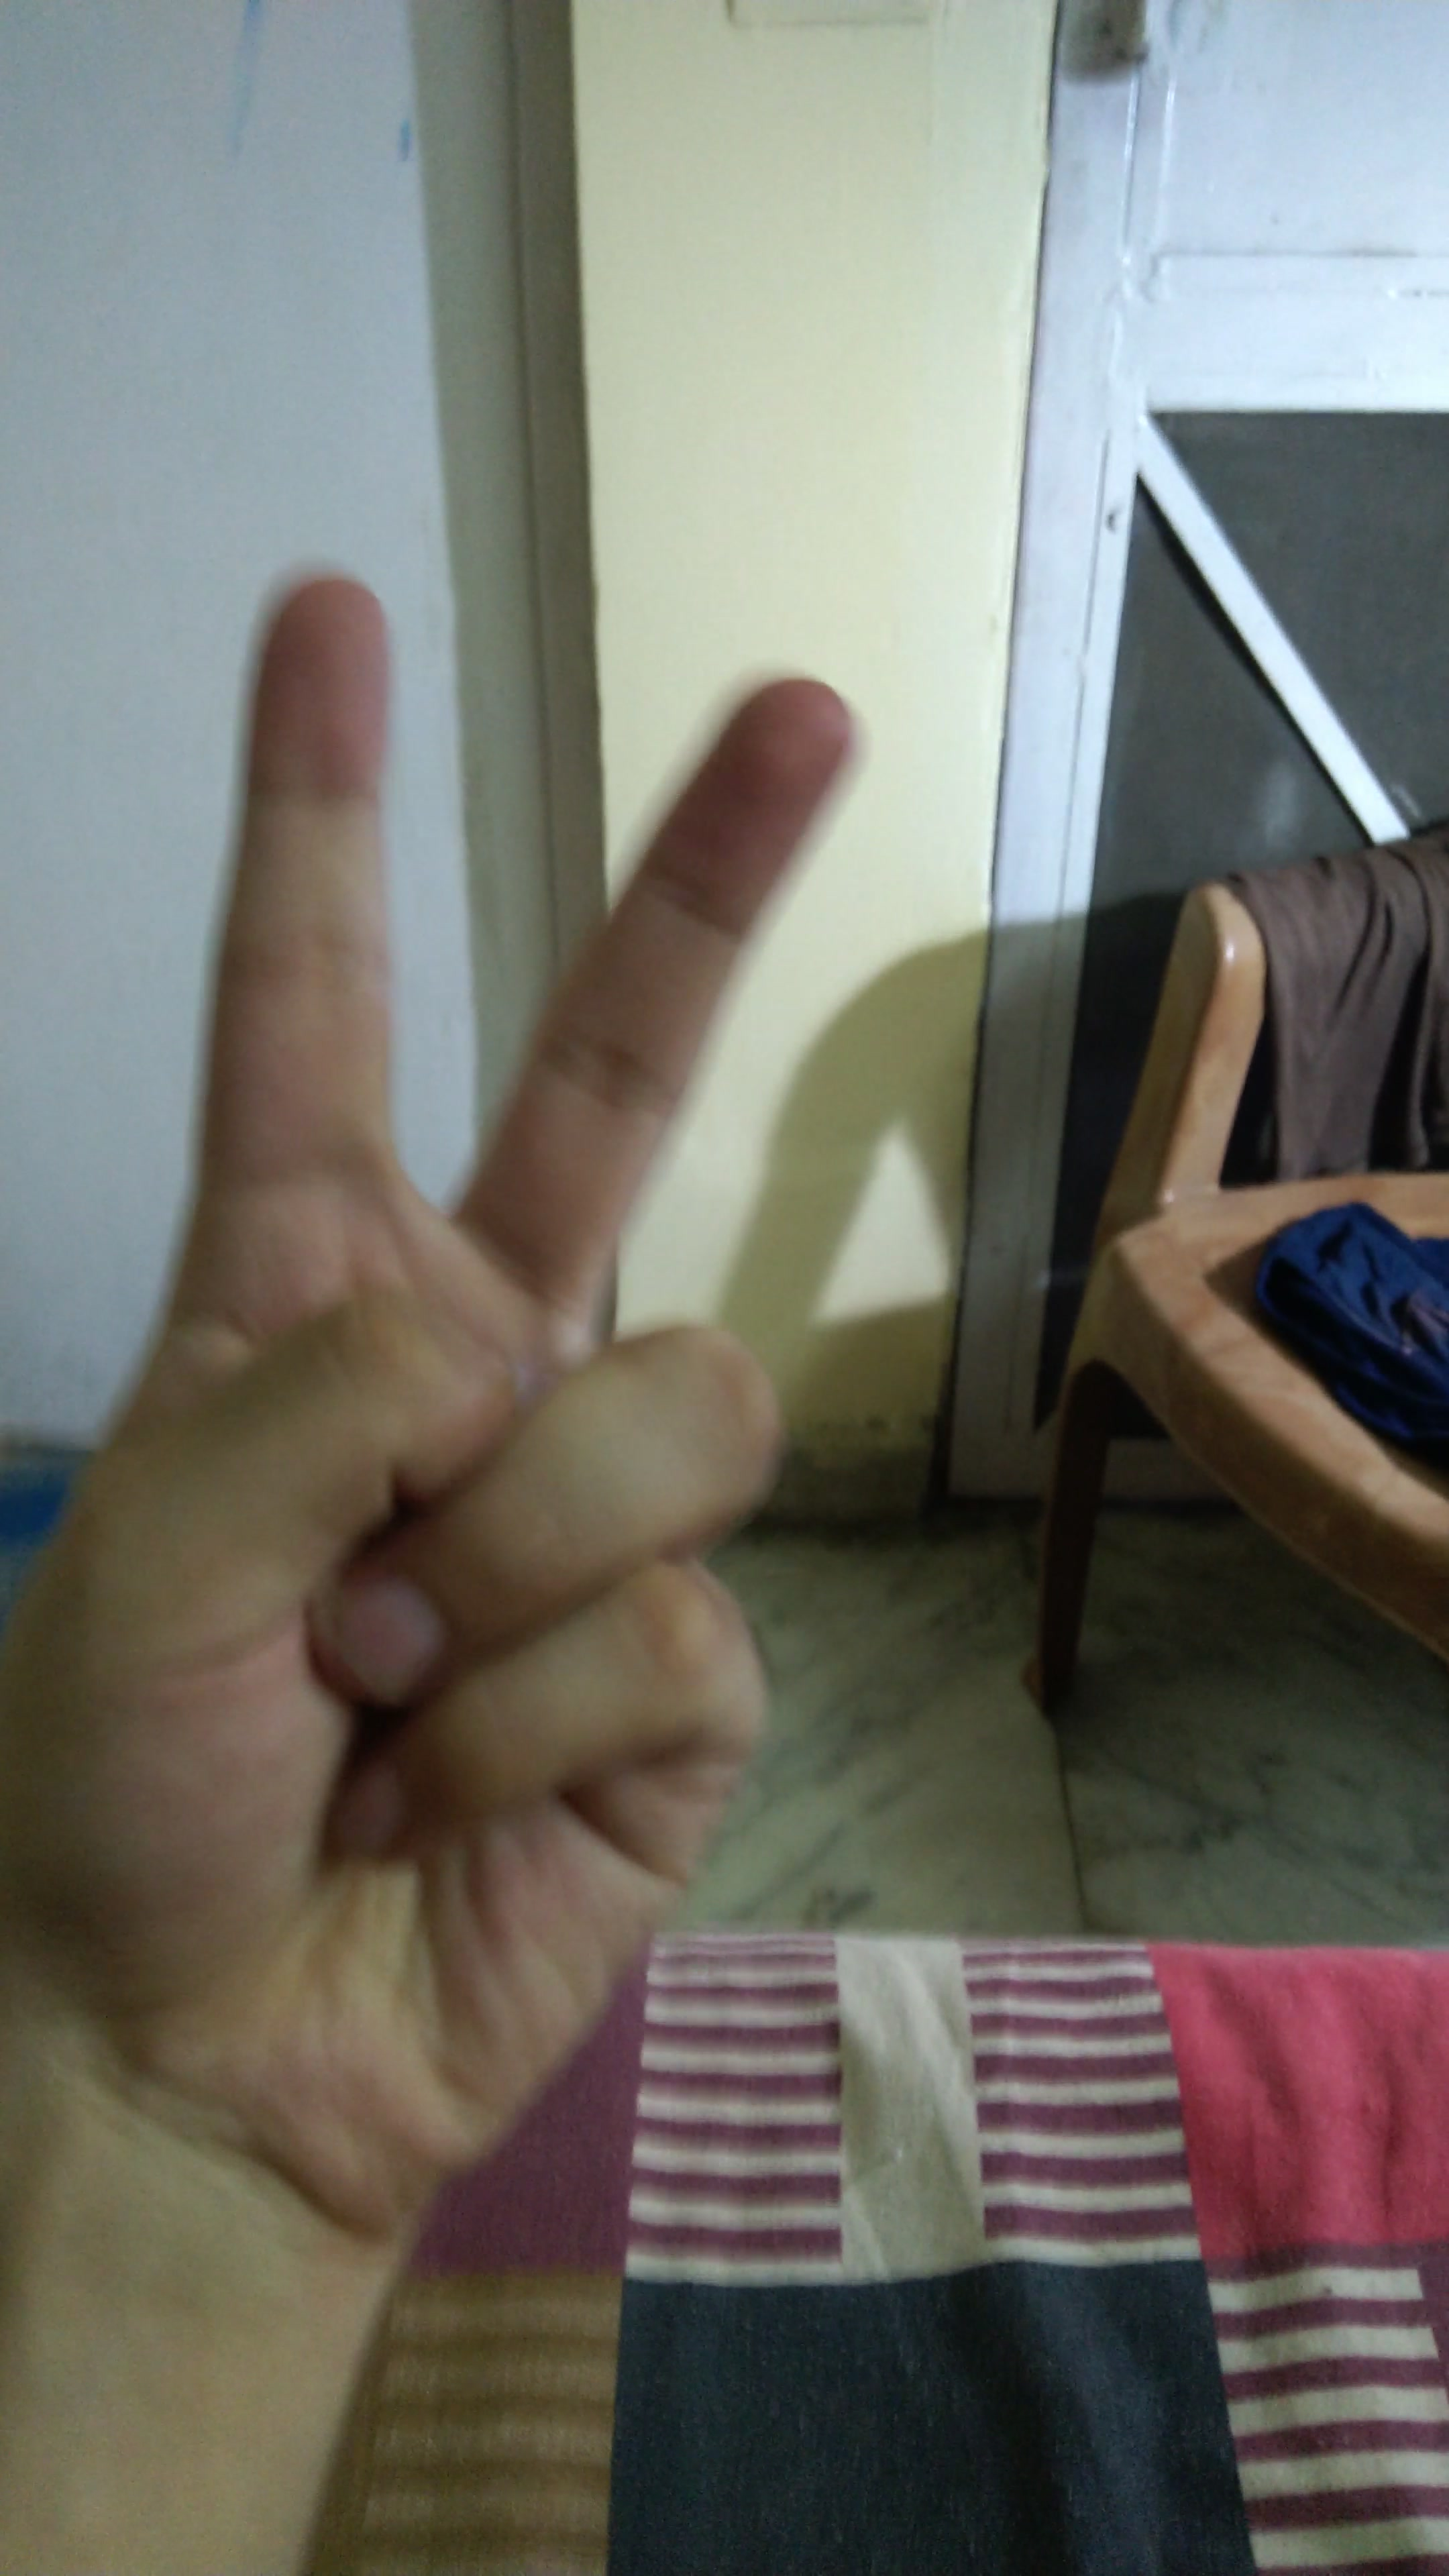hand: (37, 478, 849, 2277)
